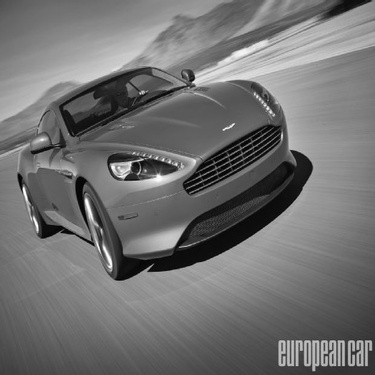car: (9, 51, 305, 286)
